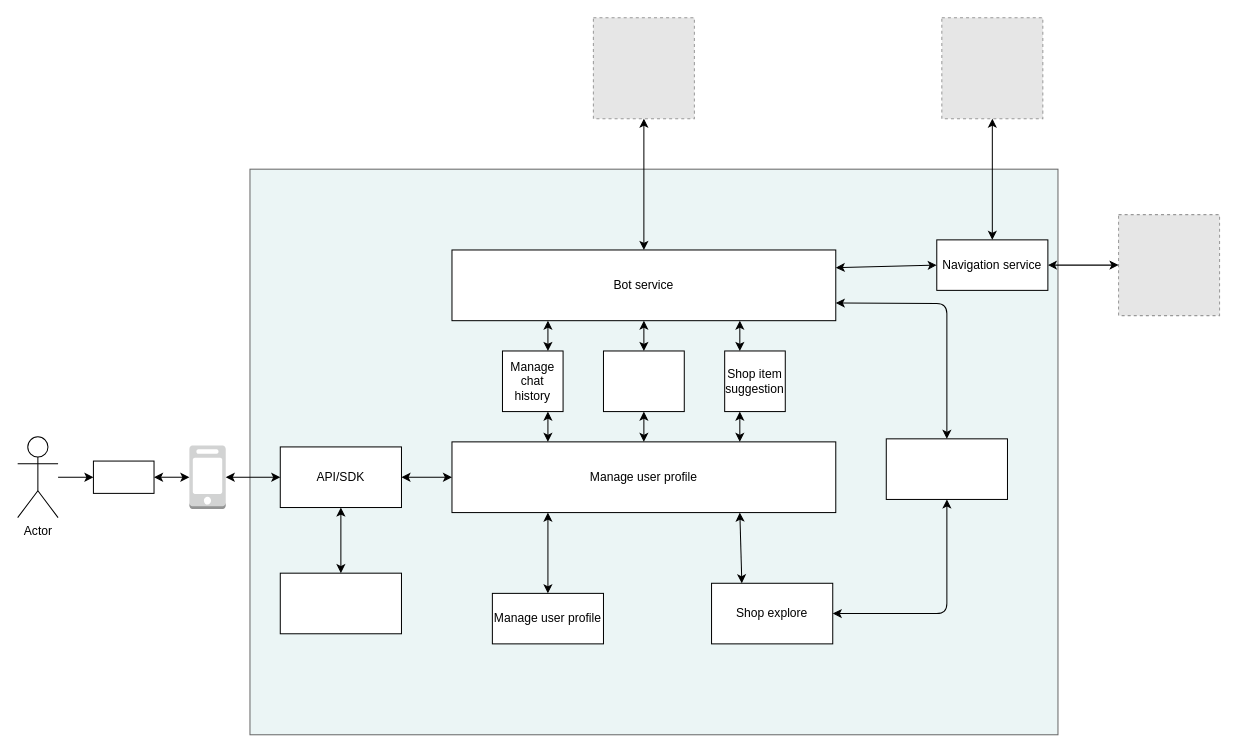
The diagram is 1237 pixels wide and 752 high, and some of its shapes have lost their labels. Grey dashed boxes stand in for pictures. The centre of each missing label's shape, as x and y in pixels:
"Customer word suggestion" goes at pixel 643 381.
"firebase service" goes at pixel 946 468.
"Input" goes at pixel 123 476.
"Text to speech and speech to text conversion" goes at pixel 340 603.
